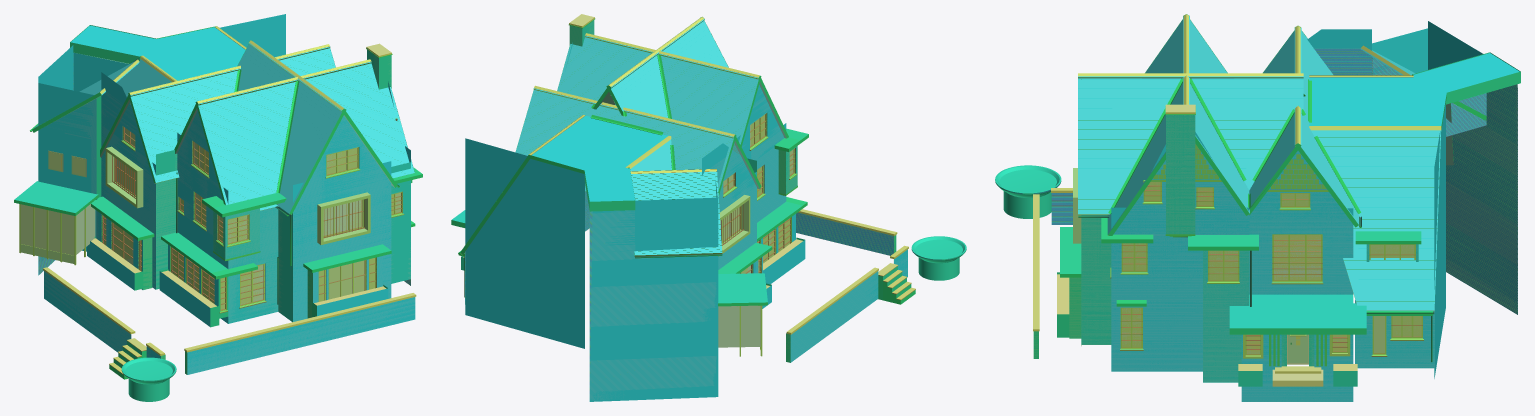
Rendered from vanbuuren.glb.
3 renders of one model, left to right at view 1: azimuth 30°, elevation 25°; view 2: azimuth 150°, elevation 25°; view 3: azimuth 270°, elevation 25°, orthographic. The views are drawn at different scales.
Visible parts, largest first — view 1: Villa_courses, Villa_far, Villa; view 2: Villa, Villa_courses, Villa_far; view 3: Villa_courses, Villa_far, Villa.
Part boxes in pixels (x1,y1,x2,y2): Villa_courses: [34, 42, 415, 374]; Villa_far: [32, 25, 415, 374]; Villa: [14, 14, 422, 401]; Villa: [451, 14, 966, 356]; Villa_courses: [465, 19, 907, 401]; Villa_far: [460, 20, 907, 401]; Villa_courses: [1033, 16, 1517, 401]; Villa_far: [1033, 21, 1520, 401]; Villa: [995, 14, 1520, 386].
Bounding box in the file's own units: 23.37 × 14.64 × 23.78.
